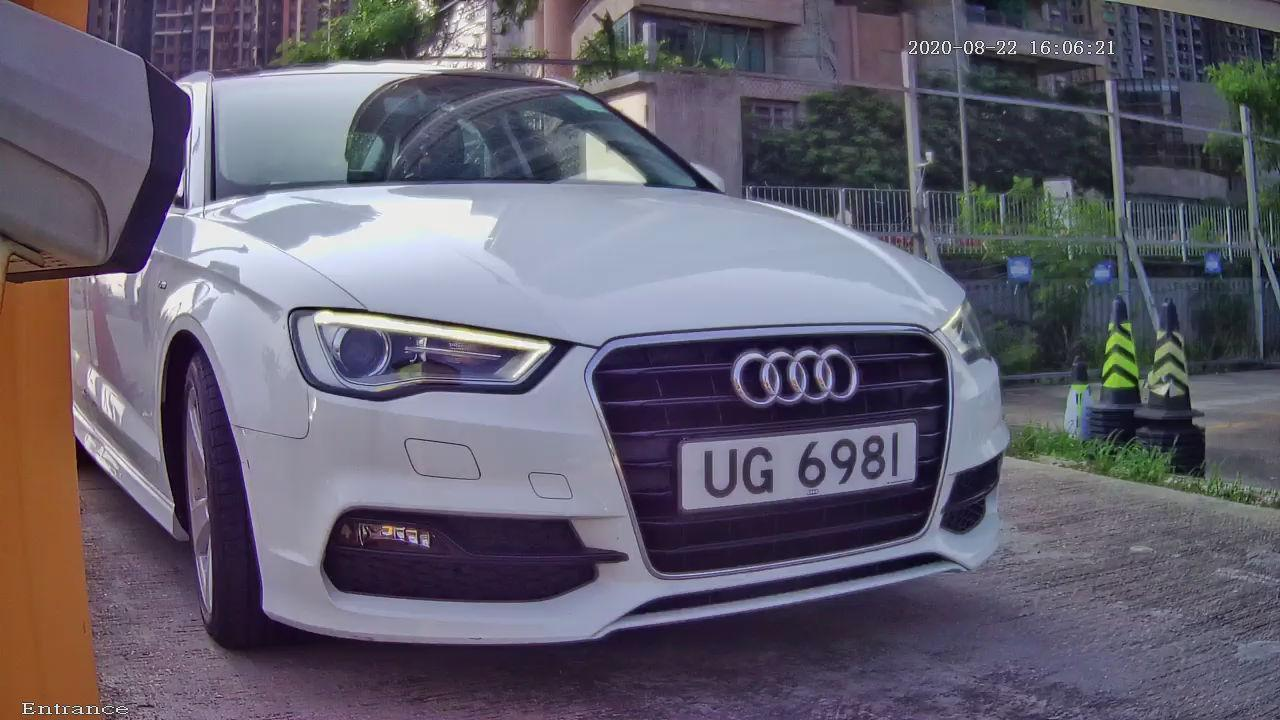Car: (52, 20, 1092, 685)
License Plate: (630, 394, 977, 533)
